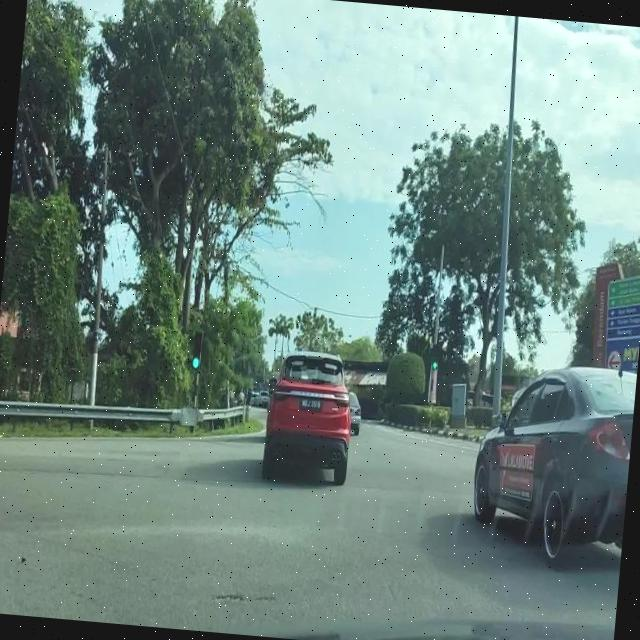green_light: (190, 329, 202, 370), (430, 344, 438, 369)
